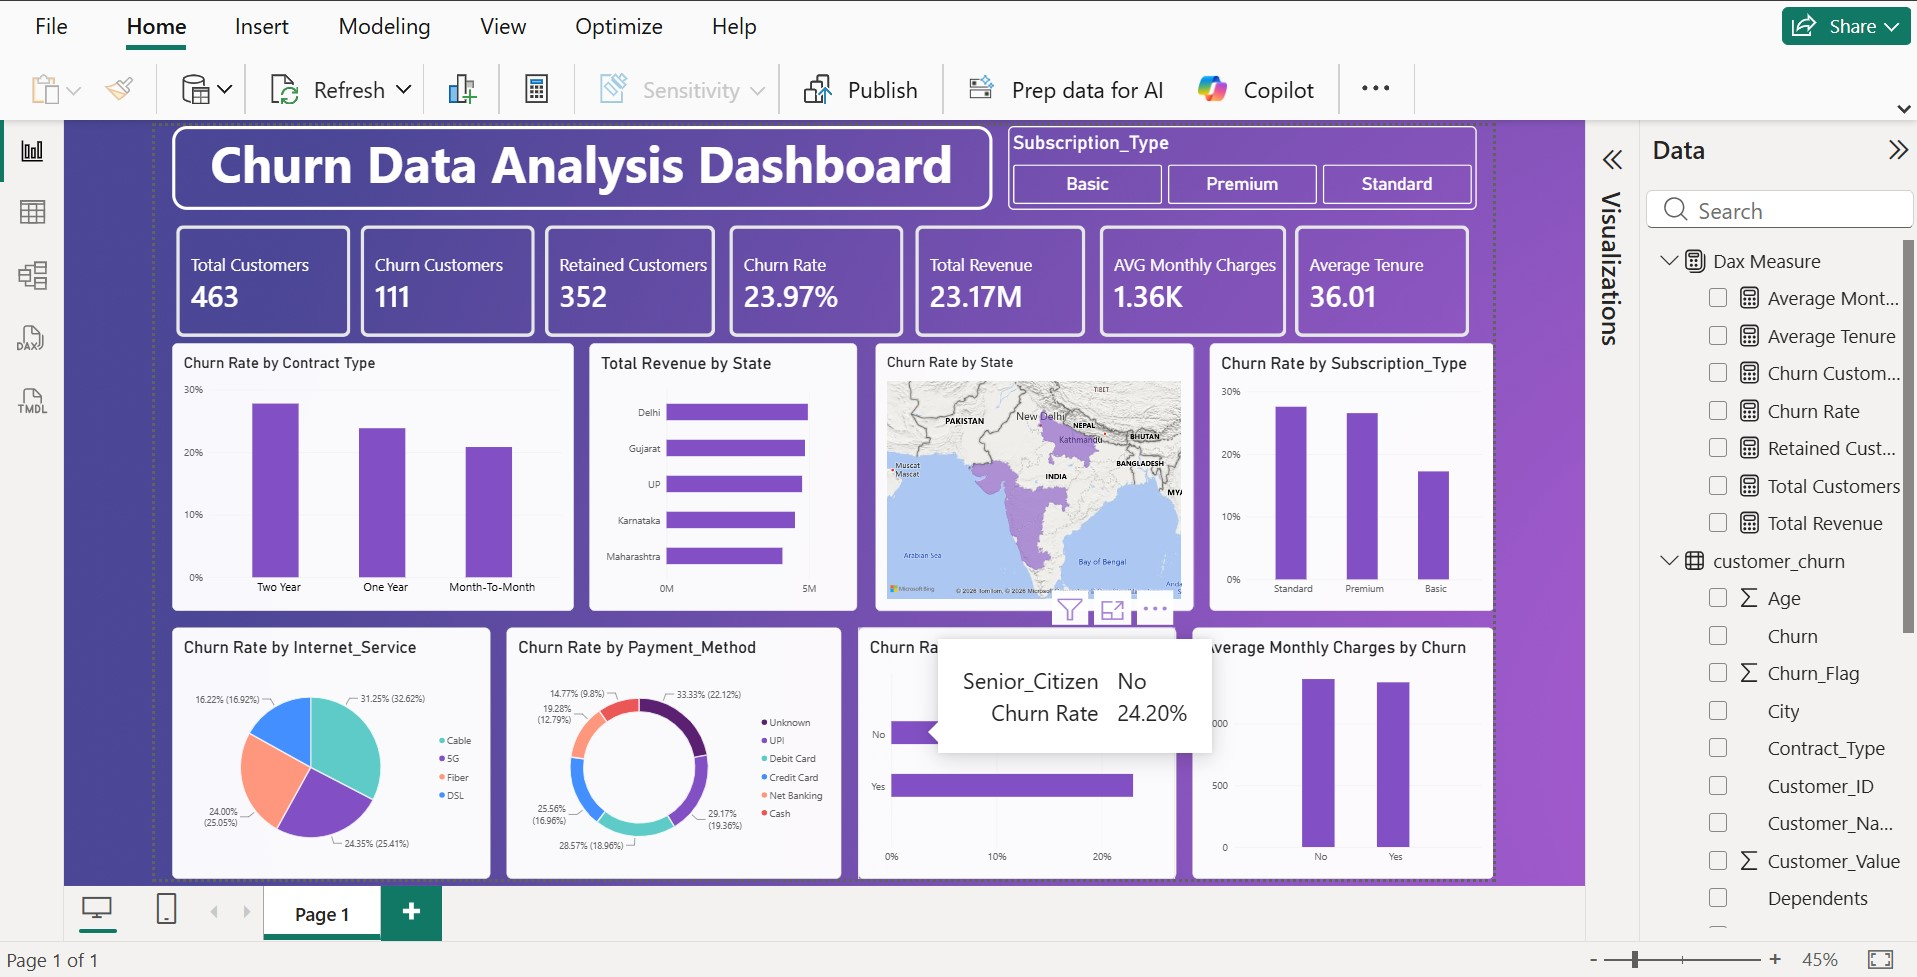

The page's visual inventory and layout, read from the dashboard file:
{"tool":"powerbi","page":{"name":"Page 1","canvas":[1920,1080],"ordinal":0},"visuals":[{"type":"cardVisual","fields":{"Data":["Dax Measure.Total Customers"]},"box":[20.7,131.4,270,180],"z":0},{"type":"cardVisual","fields":{"Data":["Dax Measure.Churn Customers"]},"box":[284.7,131.4,270,180],"z":1000},{"type":"cardVisual","fields":{"Data":["Dax Measure.Retain Customers"]},"box":[548.7,131.4,264,180],"z":2000},{"type":"cardVisual","fields":{"Data":["Dax Measure.Churn Rate"]},"box":[812.7,131.4,270,180],"z":3000},{"type":"cardVisual","fields":{"Data":["Dax Measure.Total Revenue"]},"box":[1080,132.2,264,180],"z":4000},{"type":"cardVisual","fields":{"Data":["Dax Measure.Average Monthly Charges"]},"box":[1344.4,132.2,288,180],"z":5000},{"type":"cardVisual","fields":{"Data":["Dax Measure.Average Tenure"]},"box":[1624.5,132.2,270,180],"z":6000},{"type":"columnChart","title":"Churn Rate by Contract Type","fields":{"Category":["customer_churn.Contract_Type"],"Y":["Dax Measure.Churn Rate"]},"box":[24,312,576,384],"z":7000},{"type":"textbox","box":[24,0,1176,120],"z":8000},{"type":"barChart","fields":{"Category":["customer_churn.State"],"Y":["Dax Measure.Total Revenue"]},"box":[624,312,384,384],"z":9000},{"type":"filledMap","fields":{"Category":["customer_churn.State"]},"box":[1032,312,456,384],"z":10000},{"type":"advancedSlicerVisual","fields":{"Values":["customer_churn.Subscription_Type"]},"box":[1224,0,672,120],"z":11000},{"type":"pieChart","fields":{"Category":["customer_churn.Internet_Service"],"Y":["Dax Measure.Churn Rate"]},"box":[24,720,456,360],"z":12000},{"type":"barChart","fields":{"Category":["customer_churn.Senior_Citizen"],"Y":["Dax Measure.Churn Rate"]},"box":[1008,720,456,360],"z":13000},{"type":"columnChart","fields":{"Category":["customer_churn.Subscription_Type"],"Y":["Dax Measure.Churn Rate"]},"box":[1512,312,408,384],"z":14000},{"type":"donutChart","fields":{"Category":["customer_churn.Payment_Method"],"Y":["Dax Measure.Churn Rate"]},"box":[504,720,480,360],"z":15000},{"type":"columnChart","fields":{"Category":["customer_churn.Churn"],"Y":["Dax Measure.Average Monthly Charges"]},"box":[1488,720,432,360],"z":16000}]}

Visuals, with their boxes on the page's 1920x1080 design canvas (x1, y1, x2, y2). These are canvas units, not pixel positions in the 1917x977 screenshot, which may show the page scaled, cropped or inside an application window:
cardVisual - Dax Measure.Total Customers: (x1=21, y1=131, x2=291, y2=311)
cardVisual - Dax Measure.Churn Customers: (x1=285, y1=131, x2=555, y2=311)
cardVisual - Dax Measure.Retain Customers: (x1=549, y1=131, x2=813, y2=311)
cardVisual - Dax Measure.Churn Rate: (x1=813, y1=131, x2=1083, y2=311)
cardVisual - Dax Measure.Total Revenue: (x1=1080, y1=132, x2=1344, y2=312)
cardVisual - Dax Measure.Average Monthly Charges: (x1=1344, y1=132, x2=1632, y2=312)
cardVisual - Dax Measure.Average Tenure: (x1=1624, y1=132, x2=1894, y2=312)
"Churn Rate by Contract Type" columnChart: (x1=24, y1=312, x2=600, y2=696)
textbox: (x1=24, y1=0, x2=1200, y2=120)
barChart - customer_churn.State x Dax Measure.Total Revenue: (x1=624, y1=312, x2=1008, y2=696)
filledMap - customer_churn.State: (x1=1032, y1=312, x2=1488, y2=696)
advancedSlicerVisual - customer_churn.Subscription_Type: (x1=1224, y1=0, x2=1896, y2=120)
pieChart - customer_churn.Internet_Service x Dax Measure.Churn Rate: (x1=24, y1=720, x2=480, y2=1080)
barChart - customer_churn.Senior_Citizen x Dax Measure.Churn Rate: (x1=1008, y1=720, x2=1464, y2=1080)
columnChart - customer_churn.Subscription_Type x Dax Measure.Churn Rate: (x1=1512, y1=312, x2=1920, y2=696)
donutChart - customer_churn.Payment_Method x Dax Measure.Churn Rate: (x1=504, y1=720, x2=984, y2=1080)
columnChart - customer_churn.Churn x Dax Measure.Average Monthly Charges: (x1=1488, y1=720, x2=1920, y2=1080)
